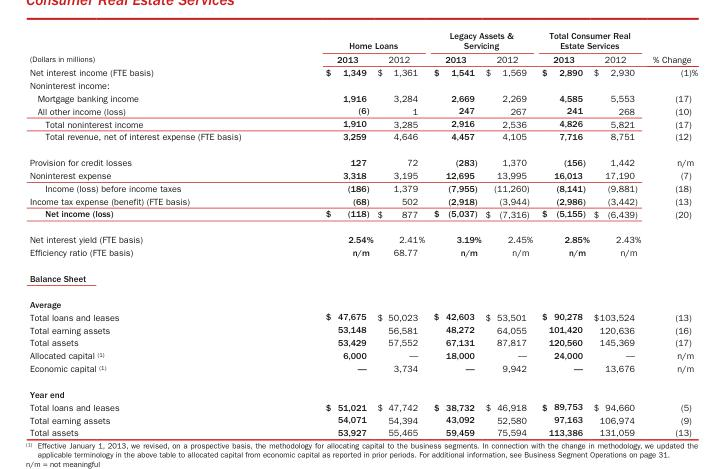table: (28, 29, 697, 437)
table column: (28, 29, 282, 437), (282, 29, 374, 437), (590, 29, 646, 437), (374, 29, 428, 437), (428, 29, 482, 437), (482, 29, 536, 437), (536, 29, 590, 437), (646, 29, 697, 437)
table column header: (28, 29, 697, 65)
table projected row header: (28, 264, 697, 290), (28, 290, 697, 309), (28, 380, 697, 399), (28, 78, 697, 91)
table row: (28, 264, 697, 290), (28, 29, 697, 52), (28, 129, 697, 149), (28, 149, 697, 168), (28, 207, 697, 226), (28, 226, 697, 245), (28, 245, 697, 264), (28, 290, 697, 309), (28, 361, 697, 380), (28, 380, 697, 399), (28, 52, 697, 65), (28, 65, 697, 78), (28, 78, 697, 91), (28, 91, 697, 104), (28, 116, 697, 129), (28, 168, 697, 181), (28, 181, 697, 194), (28, 194, 697, 207), (28, 309, 697, 322), (28, 322, 697, 335), (28, 335, 697, 348), (28, 348, 697, 361), (28, 399, 697, 412), (28, 412, 697, 425), (28, 104, 697, 116), (28, 425, 697, 437)
table spanning cell: (28, 29, 282, 65), (282, 29, 428, 52), (536, 29, 646, 52), (428, 29, 536, 52), (646, 29, 697, 65)
